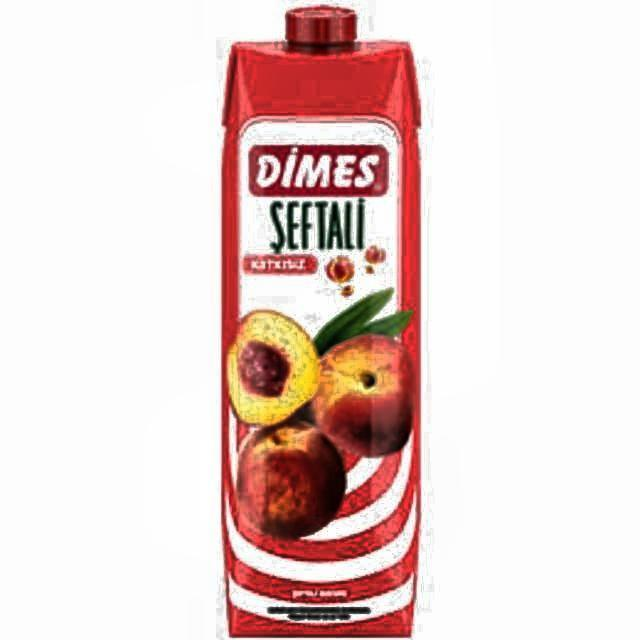cardboard: (218, 7, 424, 640)
